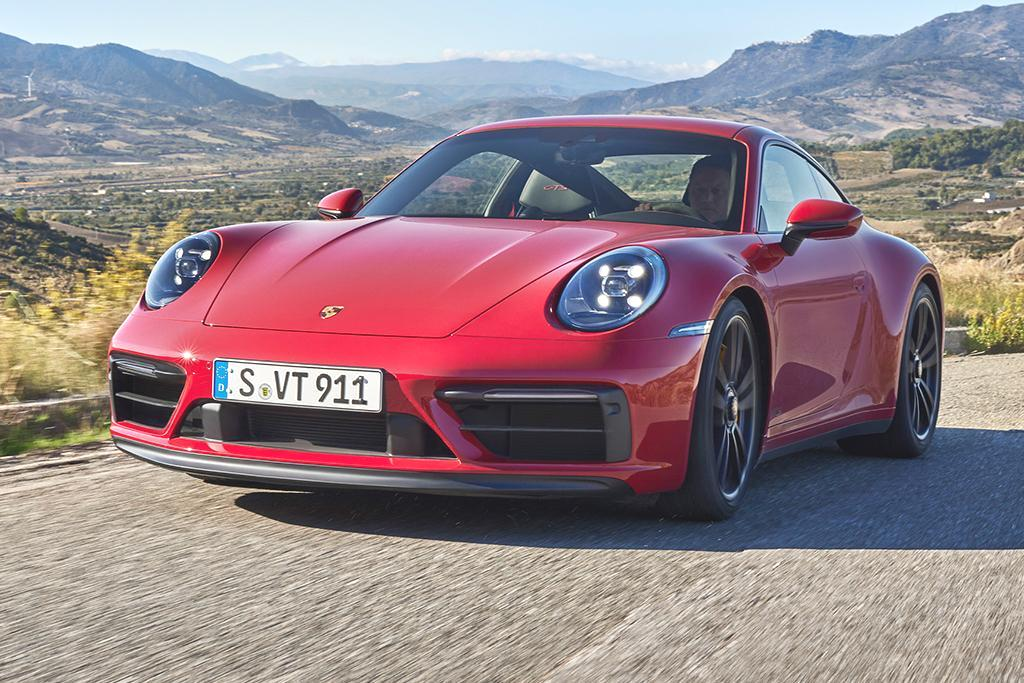porsche: (313, 299, 350, 327)
